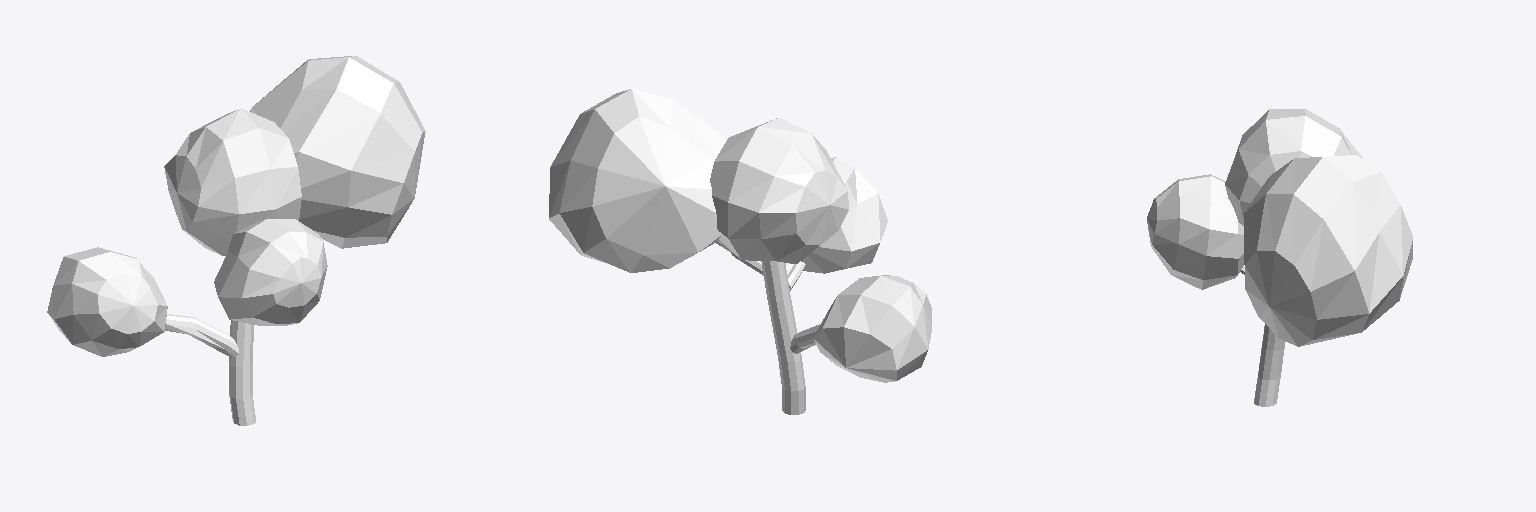
File: treewithlow.obj
The picture shows the model from 3 angles: view 1: azimuth 30°, elevation 25°; view 2: azimuth 150°, elevation 25°; view 3: azimuth 270°, elevation 25°; orthographic projection.
Visible parts, largest first — view 1: Cylinder001; view 2: Cylinder001; view 3: Cylinder001.
Boxes of the visible parts, x1=… form: Cylinder001: x1=47, y1=56, x2=425, y2=425; Cylinder001: x1=549, y1=89, x2=931, y2=414; Cylinder001: x1=1147, y1=109, x2=1412, y2=406.
Size of the model in its own units: 234 by 191 by 149.